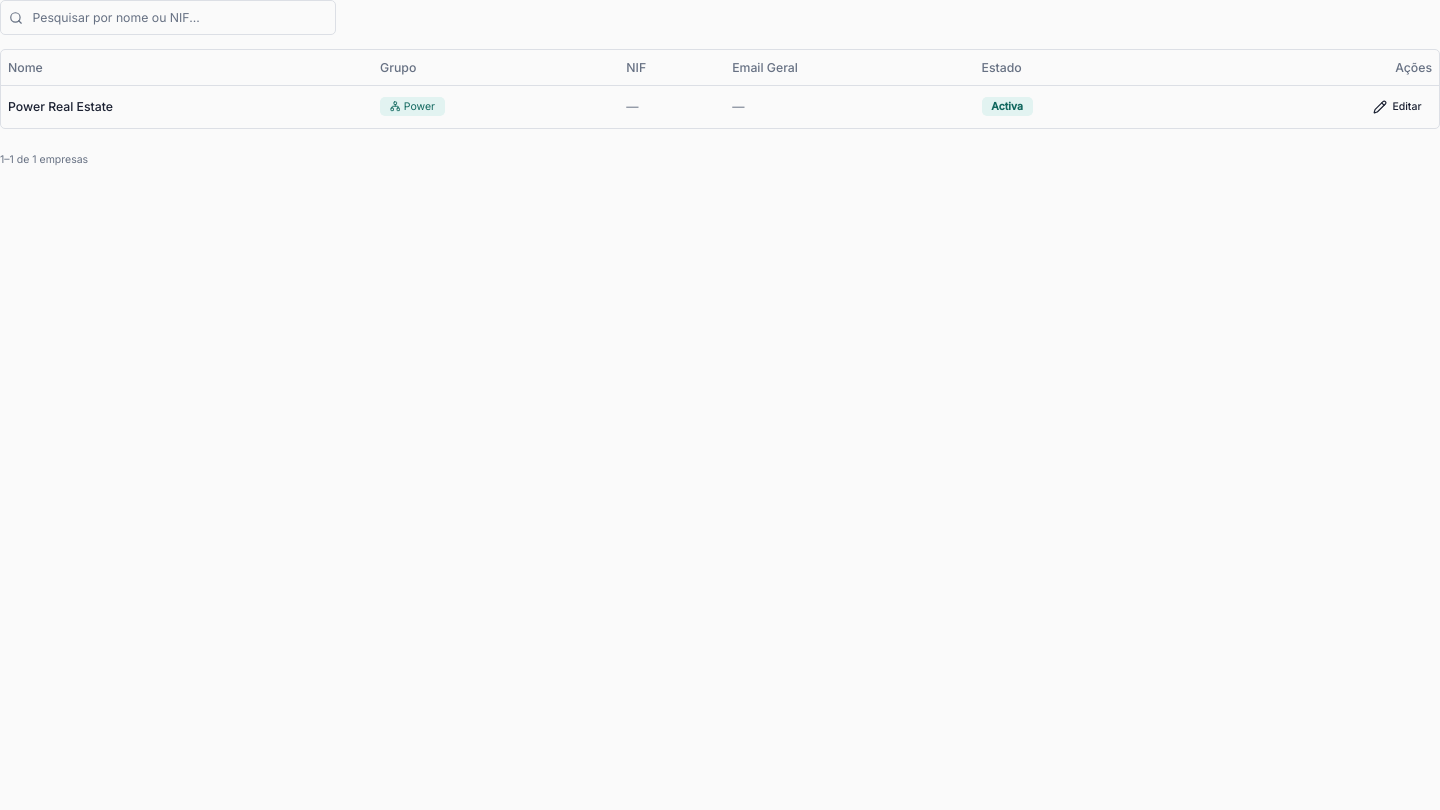
Test: CompaniesAdminTab — o que só o Master faz › o Admin edita a sua empresa mas não vê o campo da rede
The image size is (1440, 810).
Step 1. Click the button with test id "btn-edit-company-c1" → click(1397, 106), box [1363,92,1432,120]
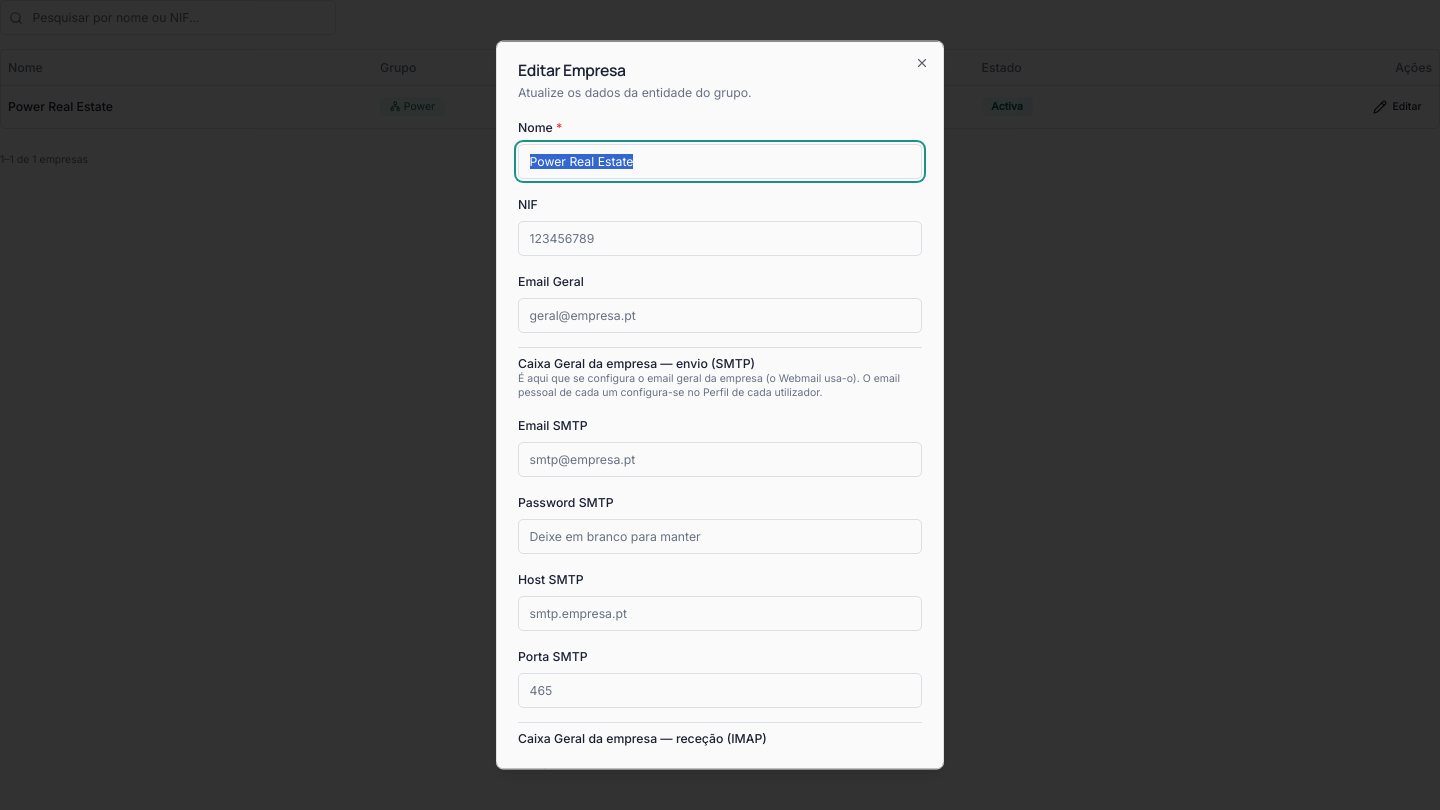
Expected: the field with test id "company-name-input" is shown, [518,143,922,178]
